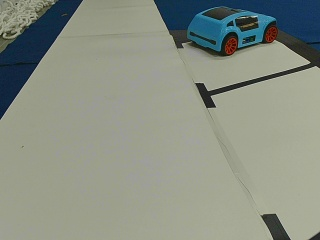car: (186, 8, 277, 54)
